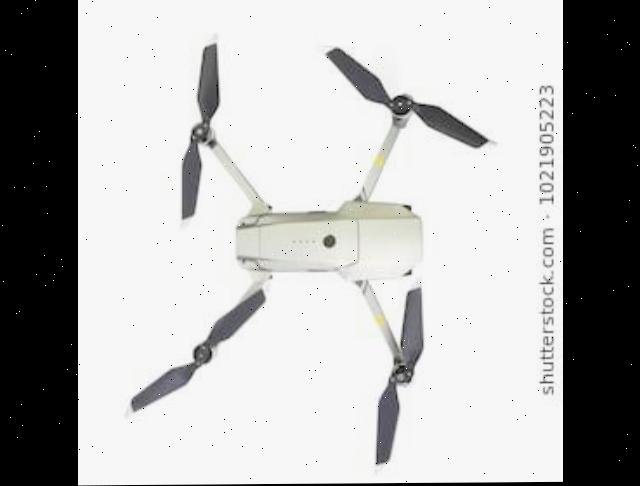drone: (206, 0, 563, 485)
